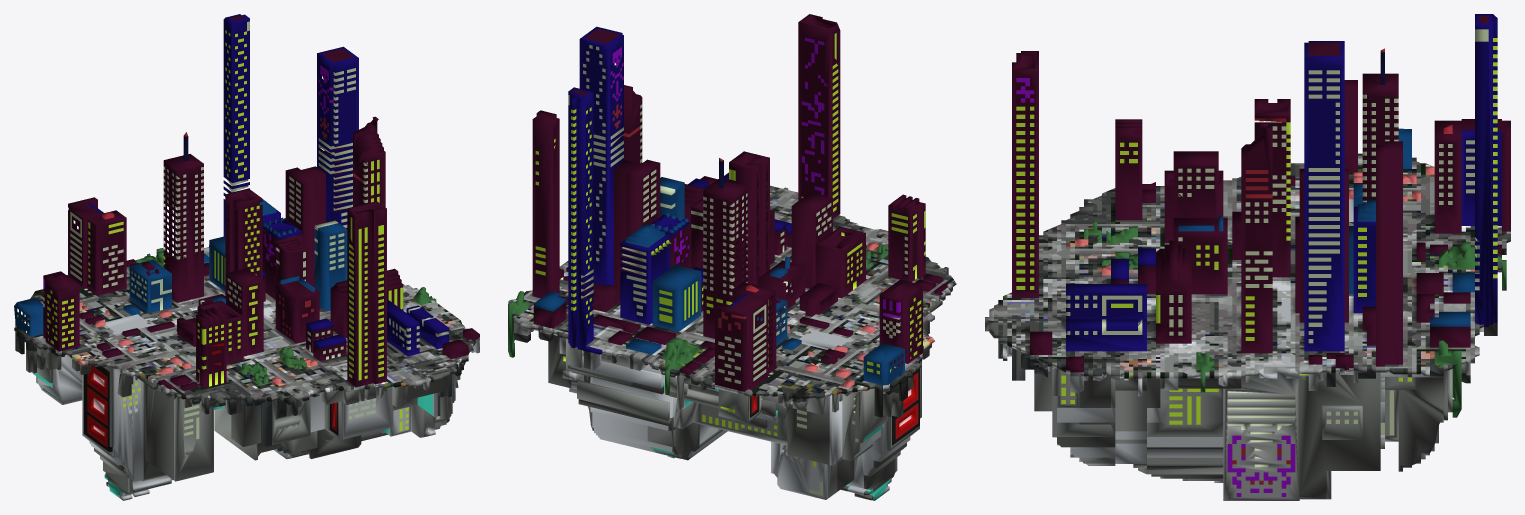
File: voxel-city.glb
3 views of the same model, side by side, from view 1: azimuth 30°, elevation 25°; view 2: azimuth 150°, elevation 25°; view 3: azimuth 270°, elevation 25° (orthographic). The views are drawn at different scales.
Parts seen in each view (by area): view 1: VoxelSciFiCity2; view 2: VoxelSciFiCity2; view 3: VoxelSciFiCity2.
Part boxes in pixels (<box>): VoxelSciFiCity2: <box>14,14,479,500</box>; VoxelSciFiCity2: <box>508,14,956,500</box>; VoxelSciFiCity2: <box>985,14,1510,500</box>.
Bounding box in the file's own units: 11800 × 12100 × 11700.
Materials: 7 (7 with a texture image).
